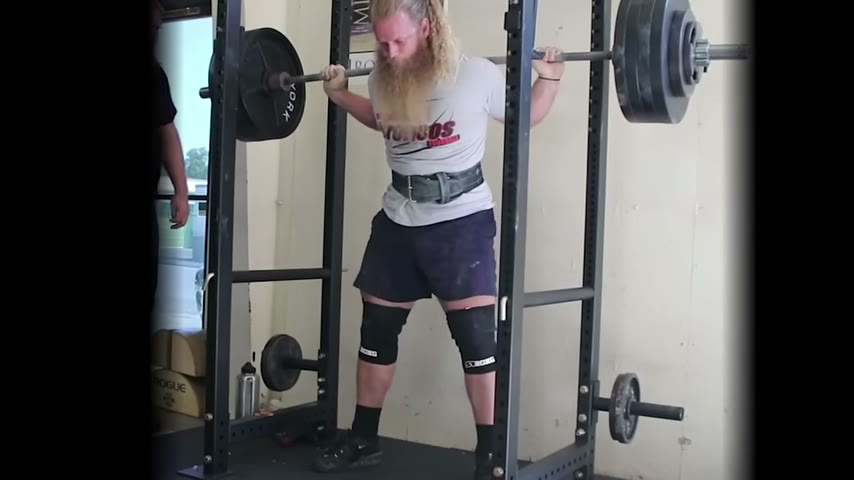barbell_plate_side: (493, 0, 579, 134), (674, 1, 753, 129), (607, 372, 689, 454)
